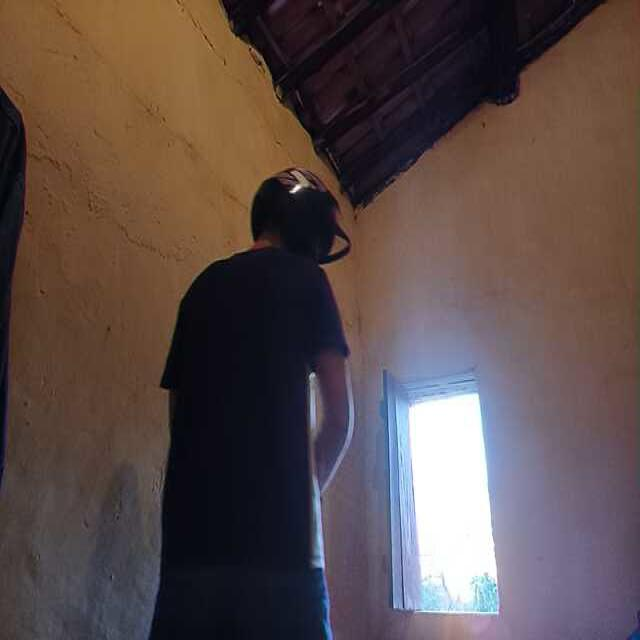capacete: (250, 165, 353, 267)
pessoa: (159, 189, 345, 640)
